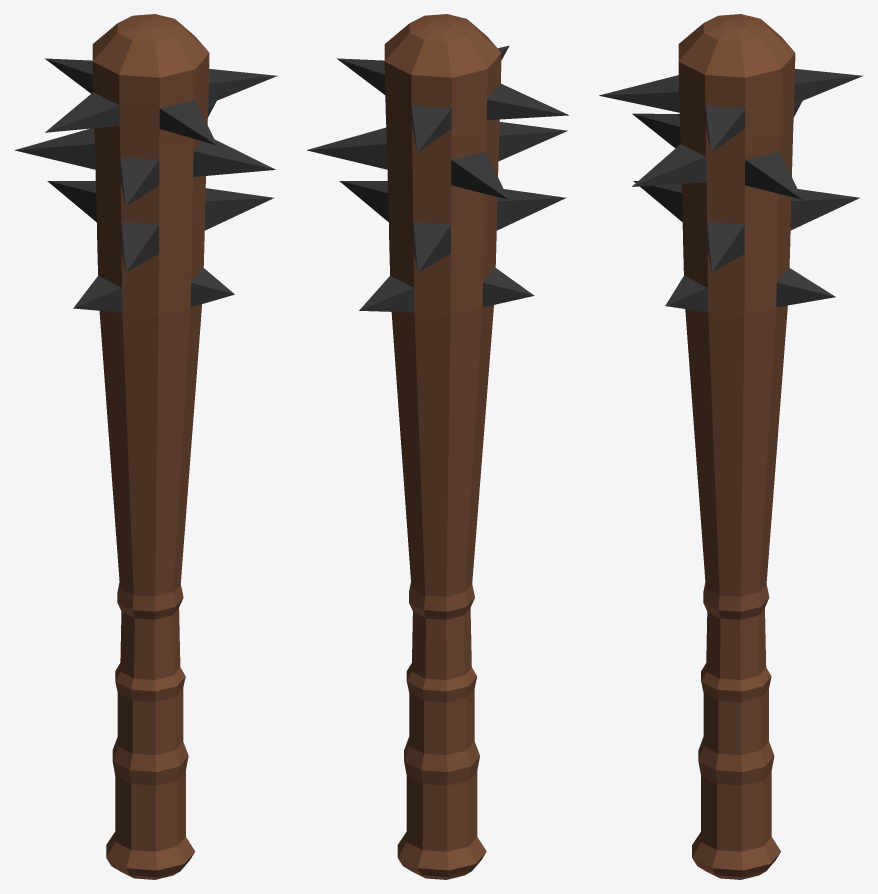
File: club.glb
3 views of the same model, side by side, from view 1: azimuth 30°, elevation 25°; view 2: azimuth 150°, elevation 25°; view 3: azimuth 270°, elevation 25° (orthographic).
Visible parts, largest first — view 1: Cylinder; view 2: Cylinder; view 3: Cylinder.
Boxes of the visible parts, x1,y1,x2,y2 form: Cylinder: [14, 14, 277, 879]; Cylinder: [307, 14, 568, 879]; Cylinder: [599, 14, 863, 879].
Bounding box in the file's own units: 1 × 3.46 × 0.9879.
1 material, 1 textured.
